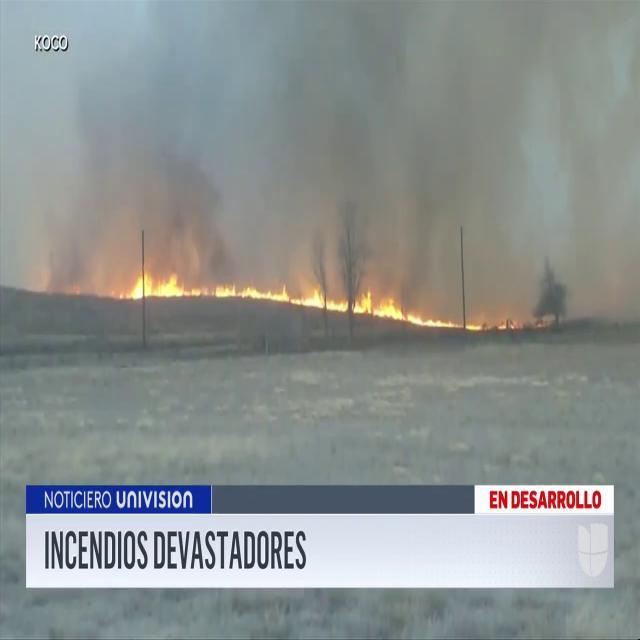Fire: (122, 270, 456, 318)
Smoke: (10, 1, 632, 294)
